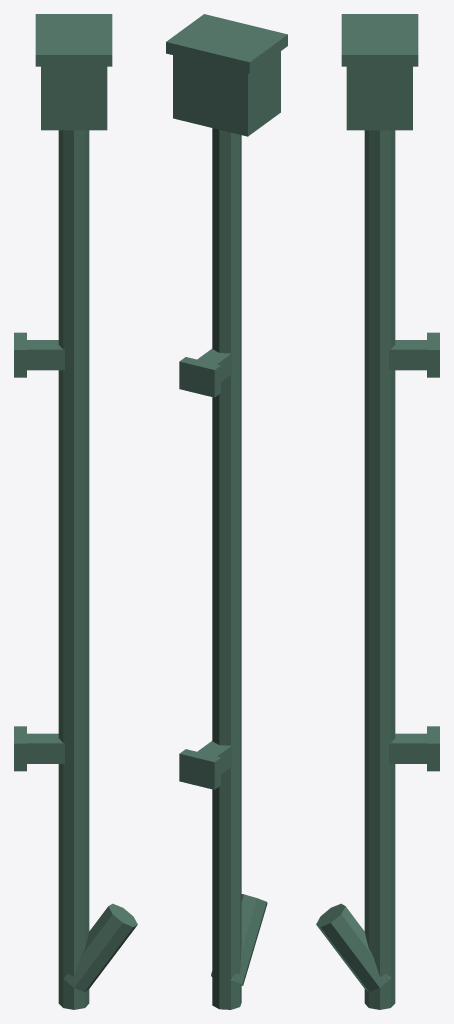
Rendered from botanical-glasshouse-and-palm-house-botanical-glasshou-e7be343a__38546.glb.
3 views of the same model, side by side, from view 1: azimuth 90°, elevation 25°; view 2: azimuth 150°, elevation 25°; view 3: azimuth 270°, elevation 25° (orthographic).
Parts seen in each view (by area): view 1: botanical-glasshouse-and-palm-house-rainwater-downpipe-and-h; view 2: botanical-glasshouse-and-palm-house-rainwater-downpipe-and-h; view 3: botanical-glasshouse-and-palm-house-rainwater-downpipe-and-h.
Part boxes in pixels (x1=…): botanical-glasshouse-and-palm-house-rainwater-downpipe-and-h: x1=14, y1=14, x2=137, y2=1009; botanical-glasshouse-and-palm-house-rainwater-downpipe-and-h: x1=166, y1=14, x2=287, y2=1009; botanical-glasshouse-and-palm-house-rainwater-downpipe-and-h: x1=316, y1=14, x2=439, y2=1009.
Bounding box in the file's own units: 0.3801 × 4.18 × 0.4848.
